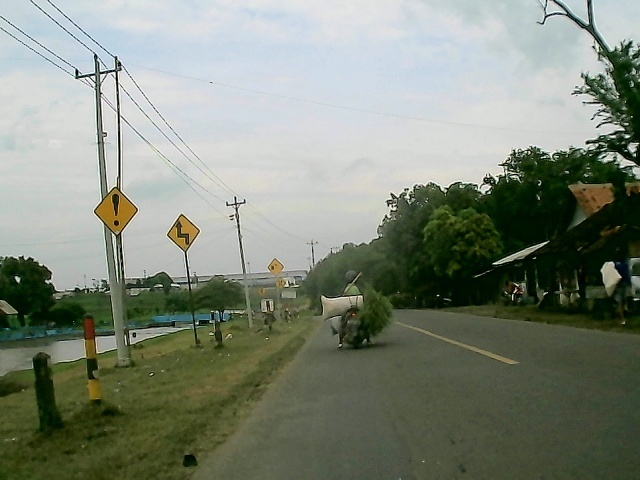Hati-hati: (91, 184, 144, 239)
Peringatan tepi air: (266, 256, 287, 279)
Tikungan garda pertama kiri: (163, 210, 202, 254)
